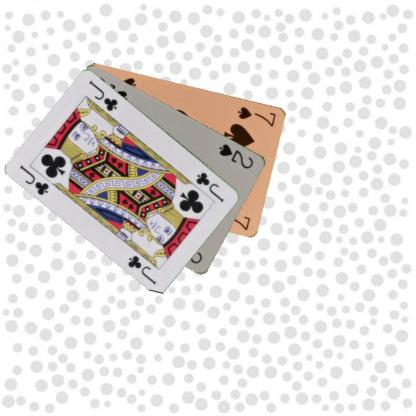2s: (217, 141, 254, 170)
7s: (235, 104, 278, 128)
Jc: (17, 162, 51, 197), (194, 169, 226, 204)
